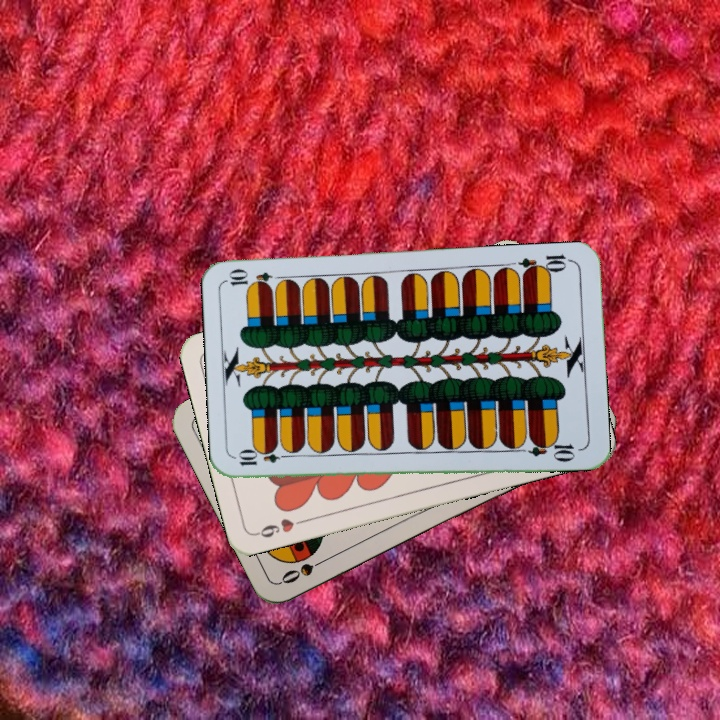E10: (516, 250, 575, 278), (234, 448, 294, 469)
H9: (252, 514, 310, 541)
SO: (277, 552, 333, 587)
